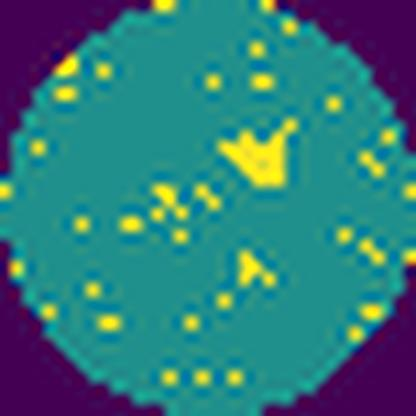Loc: (220, 128, 292, 189)
